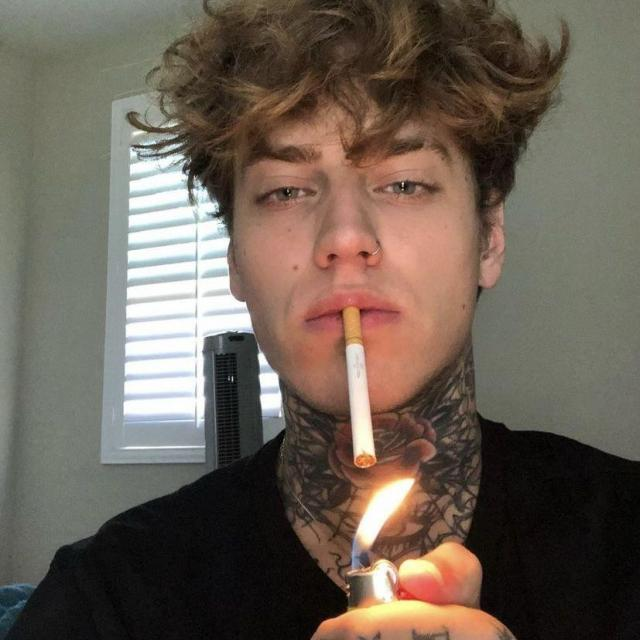cigarette: (324, 286, 416, 490)
